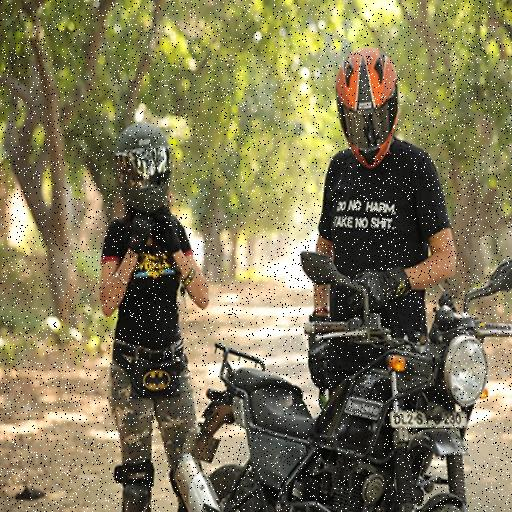Helmet: (325, 42, 407, 172), (114, 115, 176, 213)
Motor: (186, 302, 512, 512)
